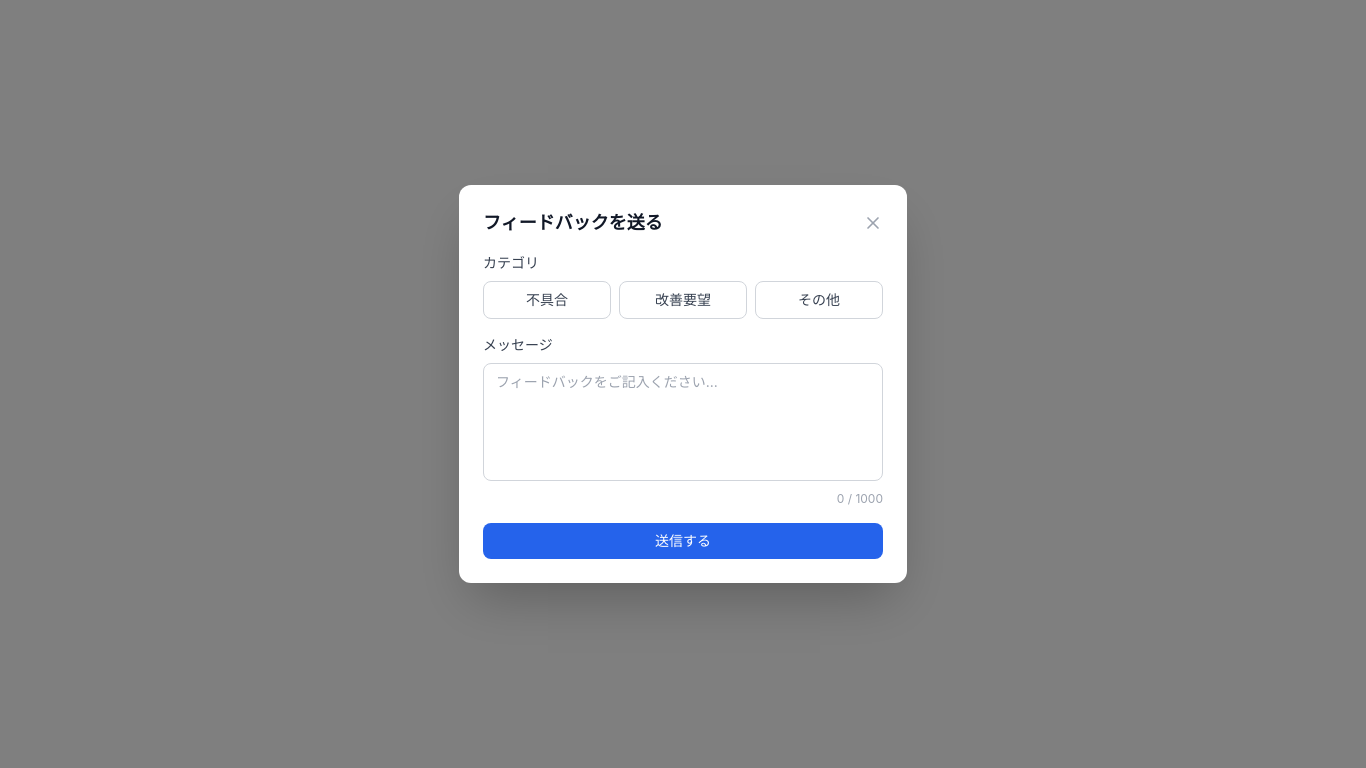
FeedbackModal › メッセージ空で送信するとエラーが表示され mutation が呼ばれない
The image size is (1366, 768).
Click the button "不具合" at [547, 300], box [483,281,611,319]
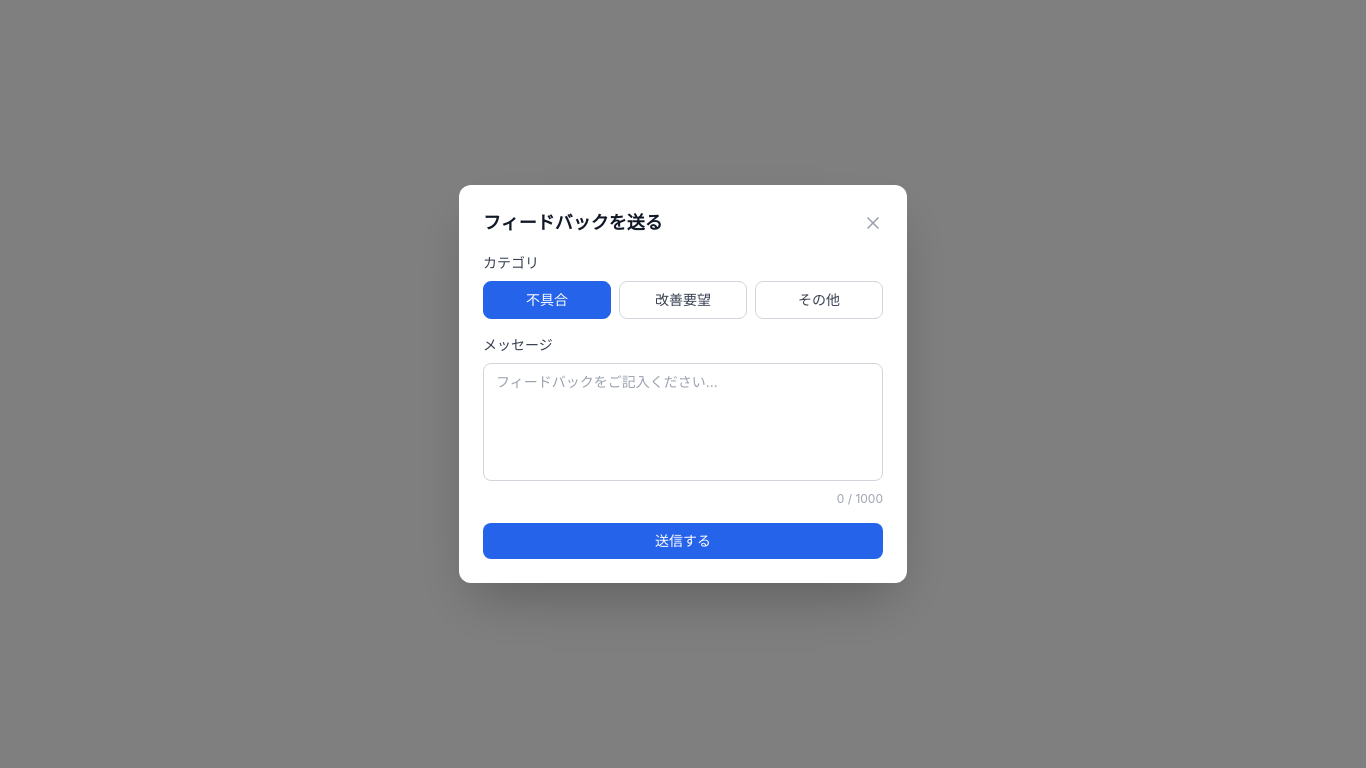
Click the button "送信する" at [683, 541], box [483,523,883,559]
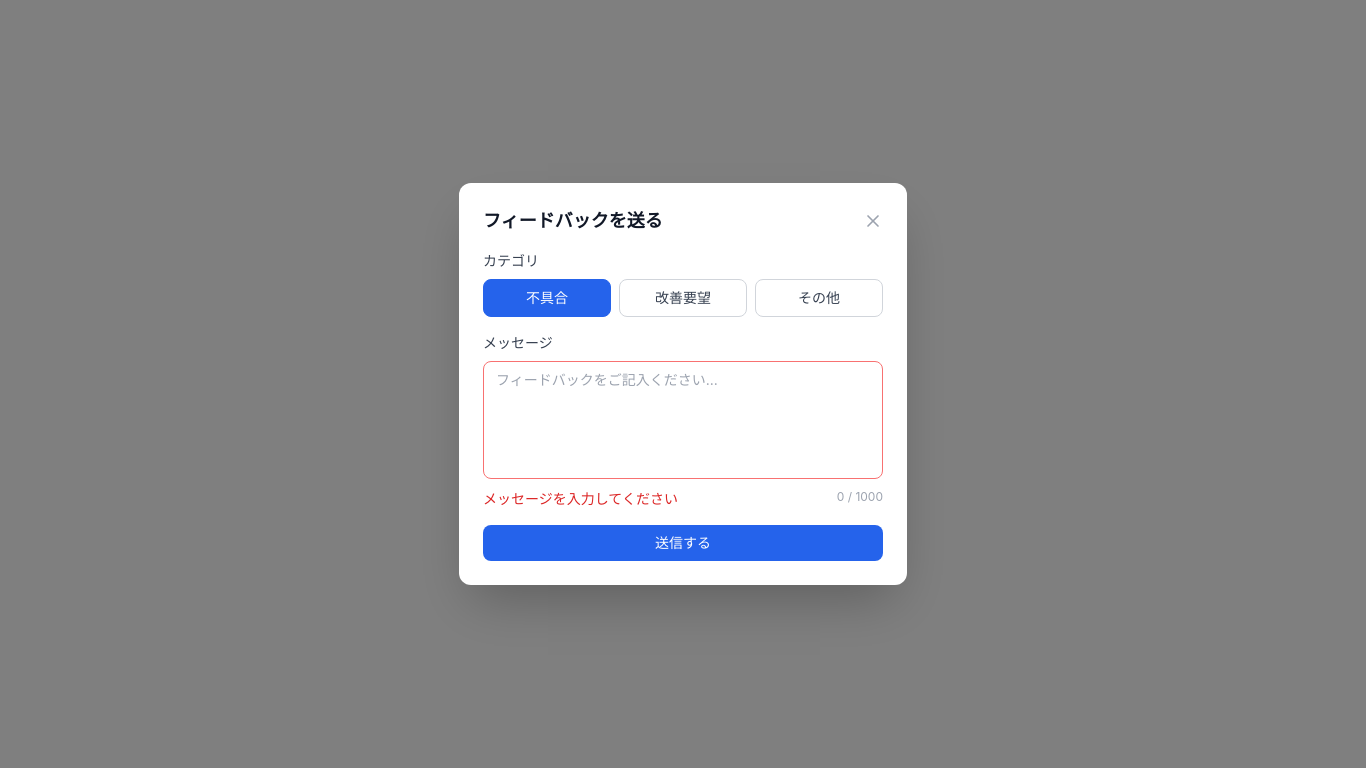
Check: the text "メッセージを入力してください" is shown, box [483,489,678,509]
